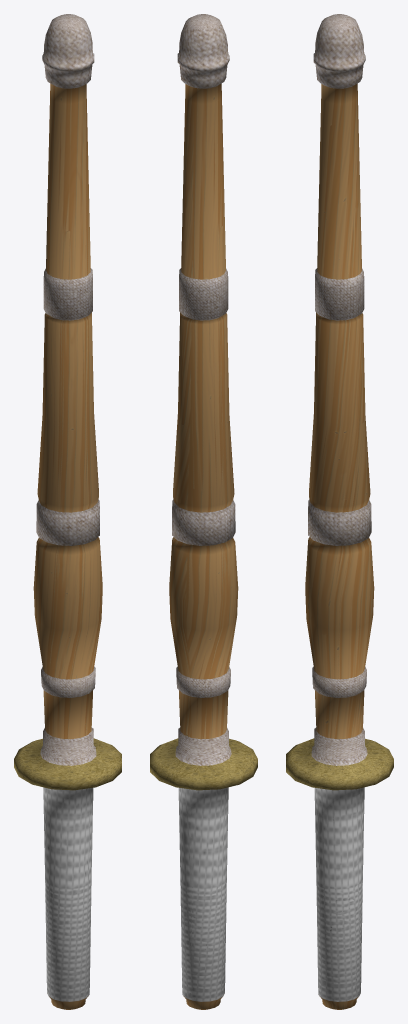
File: SinaiVer3.fbx
3 renders of one model, left to right at view 1: azimuth 90°, elevation 25°; view 2: azimuth 150°, elevation 25°; view 3: azimuth 270°, elevation 25°, orthographic.
Parts seen in each view (by area): view 1: Body.002; view 2: Body.002; view 3: Body.002.
Boxes of the visible parts, box(x1,y1,x2,y2) form: Body.002: box(14, 14, 121, 1009); Body.002: box(150, 14, 257, 1009); Body.002: box(286, 14, 393, 1009).
Size of the model in its own units: 11.62 by 11.56 by 117.
